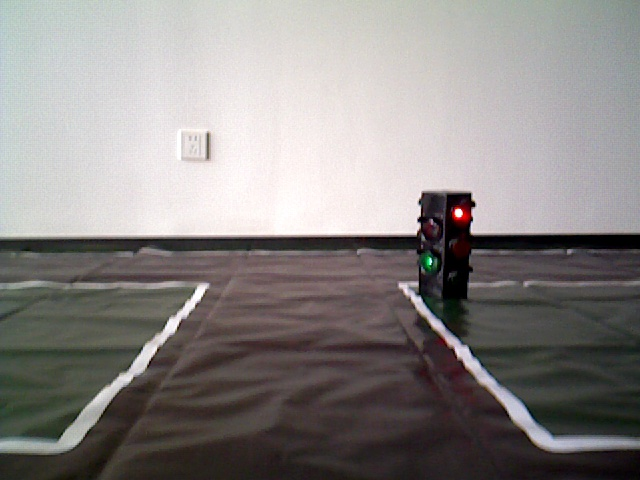red: (419, 191, 470, 296)
